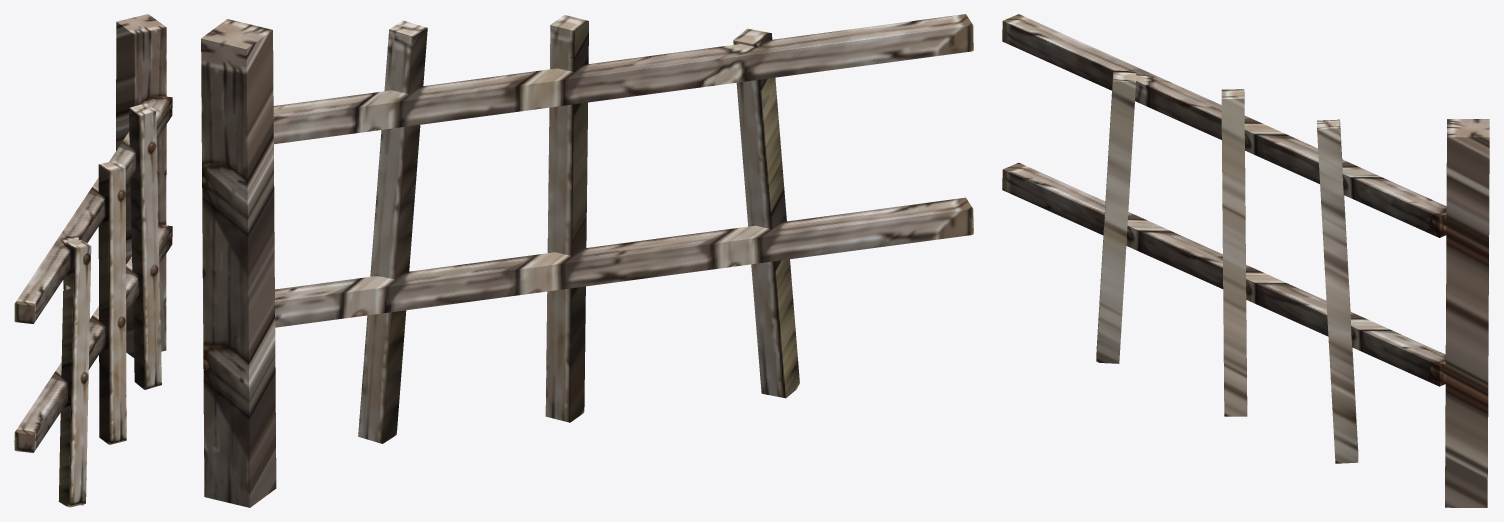
File: fence_14.glb
3 renders of one model, left to right at view 1: azimuth 30°, elevation 25°; view 2: azimuth 150°, elevation 25°; view 3: azimuth 270°, elevation 25°, orthographic. The views are drawn at different scales.
Visible parts, largest first — view 1: fence_14_game; view 2: fence_14_game; view 3: fence_14_game.
Boxes of the visible parts, <box> form: fence_14_game: <box>14,14,172,507</box>; fence_14_game: <box>201,14,973,507</box>; fence_14_game: <box>1002,14,1489,507</box>.
Bounding box in the file's own units: 1.38 × 1.25 × 1.49.
1 material, 1 textured.
